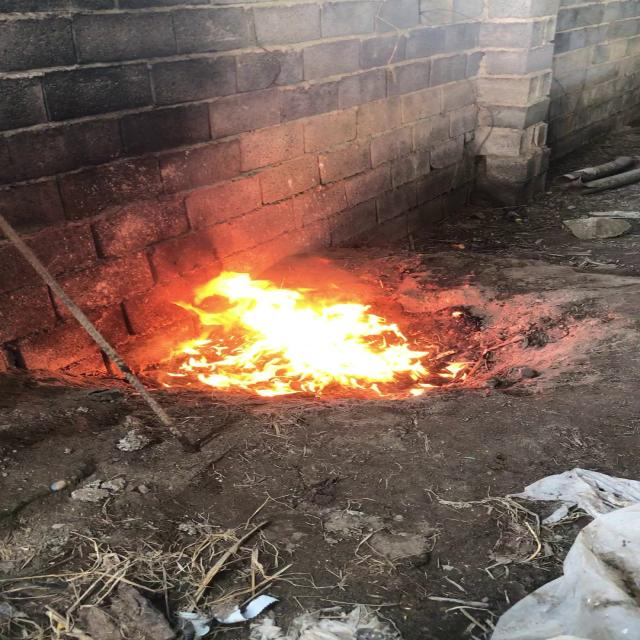fire: (168, 268, 427, 391)
